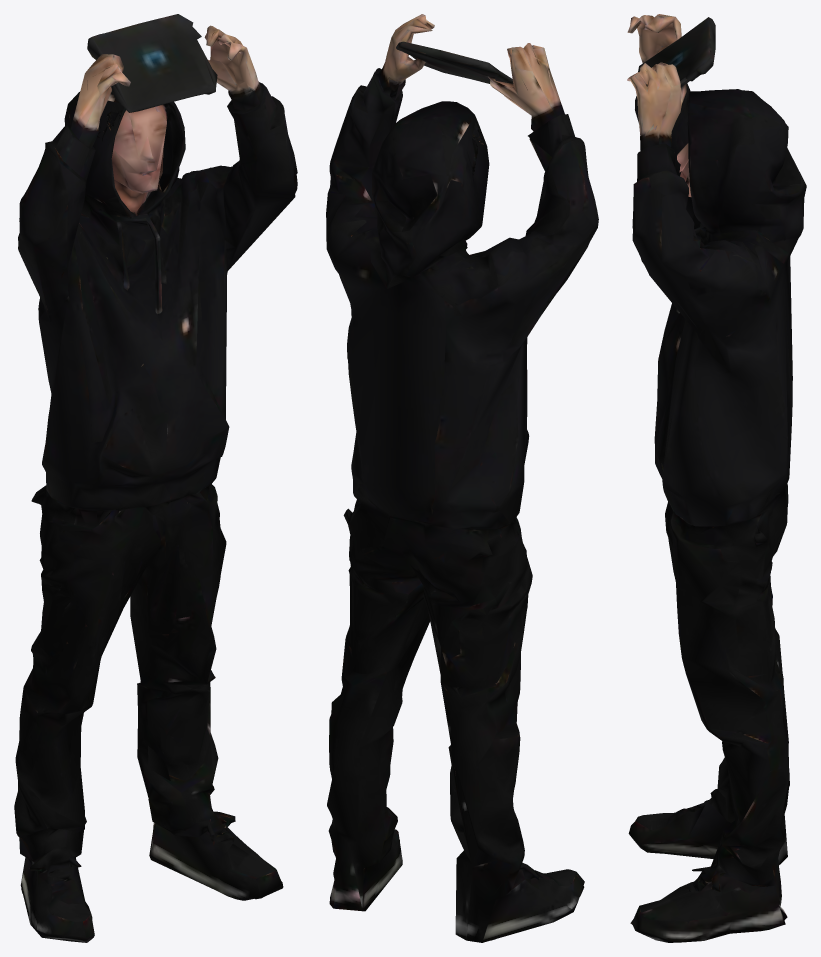
Rendered from fan-phone-s1-lo.glb.
The picture shows the model from 3 angles, left to right: view 1: azimuth 30°, elevation 25°; view 2: azimuth 150°, elevation 25°; view 3: azimuth 270°, elevation 25°; orthographic projection. The views are drawn at different scales.
Visible parts, largest first — view 1: geometry_0; view 2: geometry_0; view 3: geometry_0.
Boxes of the visible parts, x1=… form: geometry_0: x1=14, y1=14, x2=297, y2=942; geometry_0: x1=326, y1=14, x2=598, y2=942; geometry_0: x1=627, y1=14, x2=806, y2=942.
Bounding box in the file's own units: 0.3267 × 1 × 0.1912.
Materials: 1 (1 with a texture image).
